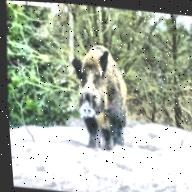boar: (67, 42, 141, 152)
